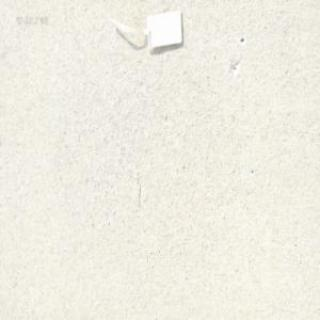LuggageTagtrack_idkeyframe: (106, 9, 183, 56)
